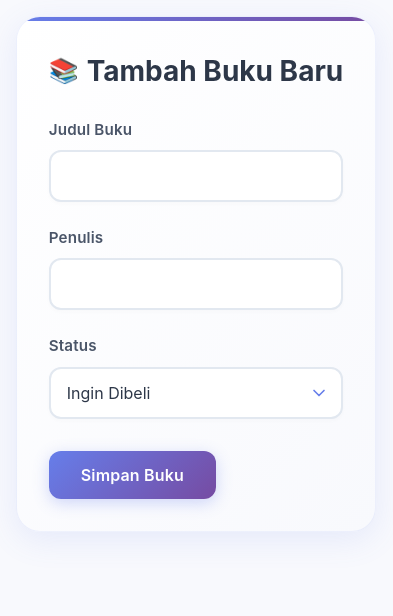
Komponen BookForm › seharusnya menampilkan pesan error jika form disubmit kosong
// Klik tombol 'Simpan Buku'
Click the button "Simpan Buku" at [132, 475], box left=49, top=451, right=216, bottom=499
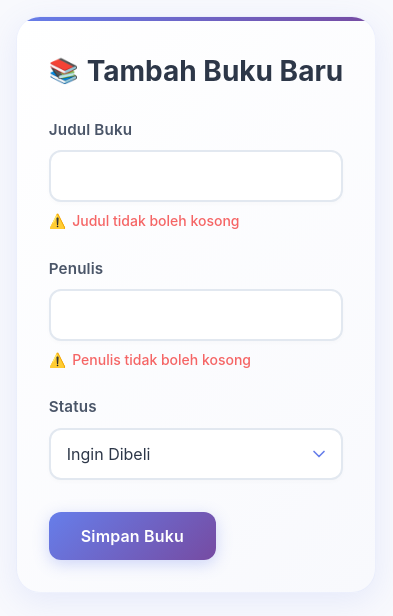
expect the text "Judul tidak boleh kosong" is shown: met, box left=72, top=212, right=240, bottom=229
expect the text "Penulis tidak boleh kosong" is shown: met, box left=72, top=351, right=251, bottom=368
